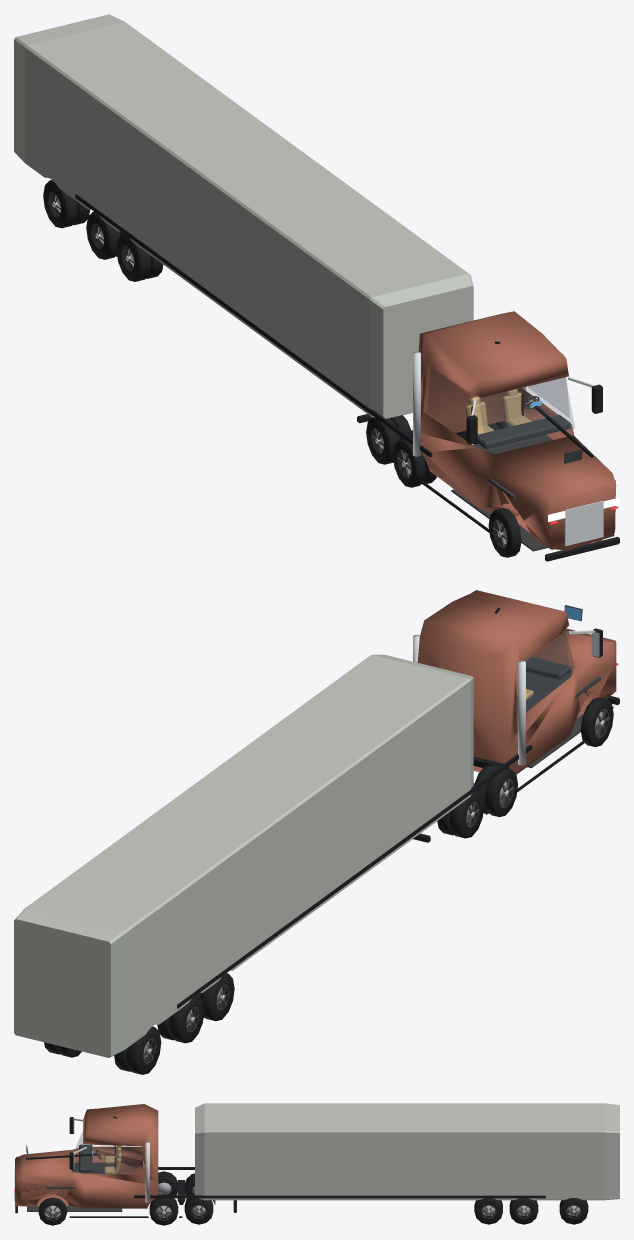
Rendered from fleet-us22.glb.
The picture shows the model from 3 angles, top to bottom: view 1: azimuth 30°, elevation 25°; view 2: azimuth 150°, elevation 25°; view 3: azimuth 270°, elevation 25°; orthographic projection. The views are drawn at different scales.
Parts seen in each view (by area): view 1: TrailerShell, Body, Surface_CarRoot_Glass, Interior_CarRoot_InteriorDark, TrailerRail, NoseGrille, Surface_WheelRear2R_Tyre, Surface_WheelRearR_Tyre, WheelFrontR_Tyre, Surface_CarRoot_BlackTrim, TrailerWheel-11010_Tyre, TrailerWheelExtra-10_Tyre (+3 smaller); view 2: TrailerShell, Body, Surface_CarRoot_Glass, Interior_CarRoot_InteriorDark, TrailerRail, Surface_WheelRearR_Tyre, Surface_WheelRear2R_Tyre, WheelFrontR_Tyre, TrailerWheel-1880_Tyre, TrailerWheel-11010_Tyre, TrailerWheelExtra-10_Tyre, Exhaust (+1 smaller); view 3: TrailerShell, Body, TrailerRail.001, Surface_CarRoot_Glass, Interior_CarRoot_InteriorDark, Surface_WheelRear2L_Tyre, Surface_WheelRearL_Tyre, TrailerWheel11010_Tyre, TrailerWheel1880_Tyre, TrailerWheelExtra10_Tyre, WheelFrontL_Tyre, Surface_CarRoot_BlackTrim (+4 smaller).
Boxes of the visible parts, x1,y1,x2,y2 form: TrailerShell: (14, 14, 473, 418); Body: (418, 311, 616, 550); Surface_CarRoot_Glass: (427, 368, 574, 449); Interior_CarRoot_InteriorDark: (451, 415, 582, 551); TrailerRail: (75, 194, 432, 456); NoseGrille: (564, 500, 603, 546); Surface_WheelRear2R_Tyre: (366, 415, 411, 464); Surface_WheelRearR_Tyre: (393, 436, 436, 487); WheelFrontR_Tyre: (488, 508, 521, 557); Surface_CarRoot_BlackTrim: (357, 341, 619, 561); TrailerWheel-11010_Tyre: (43, 180, 77, 228); TrailerWheelExtra-10_Tyre: (116, 234, 151, 281); TrailerShell: (14, 654, 473, 1057); Body: (417, 590, 616, 774); Surface_CarRoot_Glass: (526, 630, 574, 708); Interior_CarRoot_InteriorDark: (526, 605, 613, 767); TrailerRail: (177, 745, 532, 1008); Surface_WheelRearR_Tyre: (475, 764, 517, 816); Surface_WheelRear2R_Tyre: (437, 790, 484, 838); WheelFrontR_Tyre: (580, 697, 613, 746); TrailerWheel-1880_Tyre: (169, 995, 204, 1043); TrailerWheel-11010_Tyre: (126, 1026, 161, 1074); TrailerWheelExtra-10_Tyre: (200, 973, 234, 1021); Exhaust: (518, 660, 525, 765); TrailerShell: (195, 1103, 619, 1200); Body: (15, 1104, 158, 1208); TrailerRail.001: (134, 1195, 545, 1198); Surface_CarRoot_Glass: (76, 1132, 137, 1173); Interior_CarRoot_InteriorDark: (26, 1144, 122, 1211); Surface_WheelRear2L_Tyre: (184, 1193, 213, 1224); Surface_WheelRearL_Tyre: (149, 1194, 178, 1225); TrailerWheel11010_Tyre: (559, 1198, 588, 1224); TrailerWheel1880_Tyre: (509, 1198, 538, 1224); TrailerWheelExtra10_Tyre: (474, 1198, 502, 1224); WheelFrontL_Tyre: (38, 1197, 67, 1225); Surface_CarRoot_BlackTrim: (15, 1116, 236, 1217).
Bounding box in the file's own units: 3.32 × 3.87 × 22.38.
